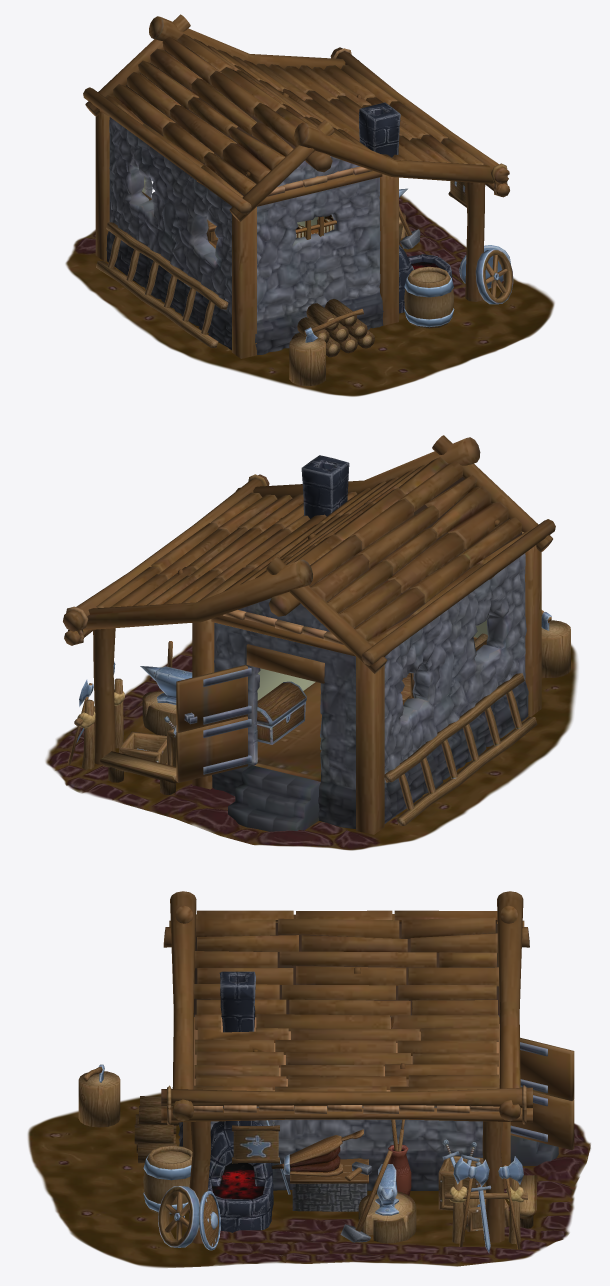
File: blacksmith.glb
The picture shows the model from 3 angles, top to bottom: view 1: azimuth 30°, elevation 25°; view 2: azimuth 150°, elevation 25°; view 3: azimuth 270°, elevation 25°; orthographic projection. The views are drawn at different scales.
Parts seen in each view (by area): view 1: Wall_low, Roof_low, Ground_high, RoofSupport_low, RoofSupport3_low, Forge_low, RoofSupport6_low, Ladder_low, RoofSupport9_low, Barrel_low, RoofSupport2_low, RoofSupport4_low (+6 smaller); view 2: Wall_low, Roof_low, Ground_high, RoofSupport_low, RoofSupport3_low, Stairs_low, RoofSupport6_low, Ladder_low, RoofSupport9_low, Door1_low, Door2_low, RoofSupport2_low (+13 smaller); view 3: Roof_low, Ground_high, Wall_low, RoofSupport3_low, Forge_low, RoofSupport4_low, RoofSupport2_low, RoofSupport5_low, Planks_low, Door1_low, StumpWoodcutter_low, WorkbenchStone_low (+21 smaller).
Part boxes in pixels (left/top/right/bottom): Wall_low: left=106, top=47, right=383, bottom=354; Roof_low: left=99, top=33, right=483, bottom=197; Ground_high: left=65, top=195, right=554, bottom=396; RoofSupport_low: left=95, top=111, right=398, bottom=358; RoofSupport3_low: left=149, top=16, right=507, bottom=183; Forge_low: left=359, top=102, right=452, bottom=313; RoofSupport6_low: left=85, top=14, right=334, bottom=221; Ladder_low: left=96, top=222, right=228, bottom=348; RoofSupport9_low: left=83, top=87, right=251, bottom=214; Barrel_low: left=404, top=266, right=454, bottom=328; RoofSupport2_low: left=465, top=182, right=485, bottom=301; RoofSupport4_low: left=330, top=47, right=509, bottom=183; Wall_low: left=212, top=476, right=528, bottom=828; Roof_low: left=96, top=457, right=530, bottom=656; Ground_high: left=45, top=640, right=577, bottom=850; RoofSupport_low: left=192, top=545, right=541, bottom=834; RoofSupport3_low: left=83, top=437, right=480, bottom=630; Stairs_low: left=228, top=765, right=320, bottom=831; RoofSupport6_low: left=266, top=435, right=552, bottom=673; Ladder_low: left=384, top=673, right=537, bottom=825; RoofSupport9_low: left=361, top=519, right=555, bottom=665; Door1_low: left=176, top=665, right=247, bottom=732; Door2_low: left=176, top=716, right=247, bottom=782; RoofSupport2_low: left=93, top=628, right=115, bottom=764; Roof_low: left=193, top=910, right=499, bottom=1091; Ground_high: left=28, top=1092, right=590, bottom=1267; Wall_low: left=178, top=923, right=499, bottom=1190; RoofSupport3_low: left=170, top=891, right=523, bottom=1121; Forge_low: left=207, top=971, right=273, bottom=1232; RoofSupport4_low: left=161, top=1087, right=532, bottom=1107; RoofSupport2_low: left=189, top=1121, right=504, bottom=1243; RoofSupport5_low: left=161, top=1107, right=532, bottom=1122; Planks_low: left=193, top=1017, right=499, bottom=1113; Door1_low: left=520, top=1037, right=574, bottom=1100; StumpWoodcutter_low: left=78, top=1071, right=120, bottom=1127; WorkbenchStone_low: left=292, top=1183, right=367, bottom=1211.
Size of the model in its own units: 845 by 484 by 1011.
7 materials, 7 textured.
